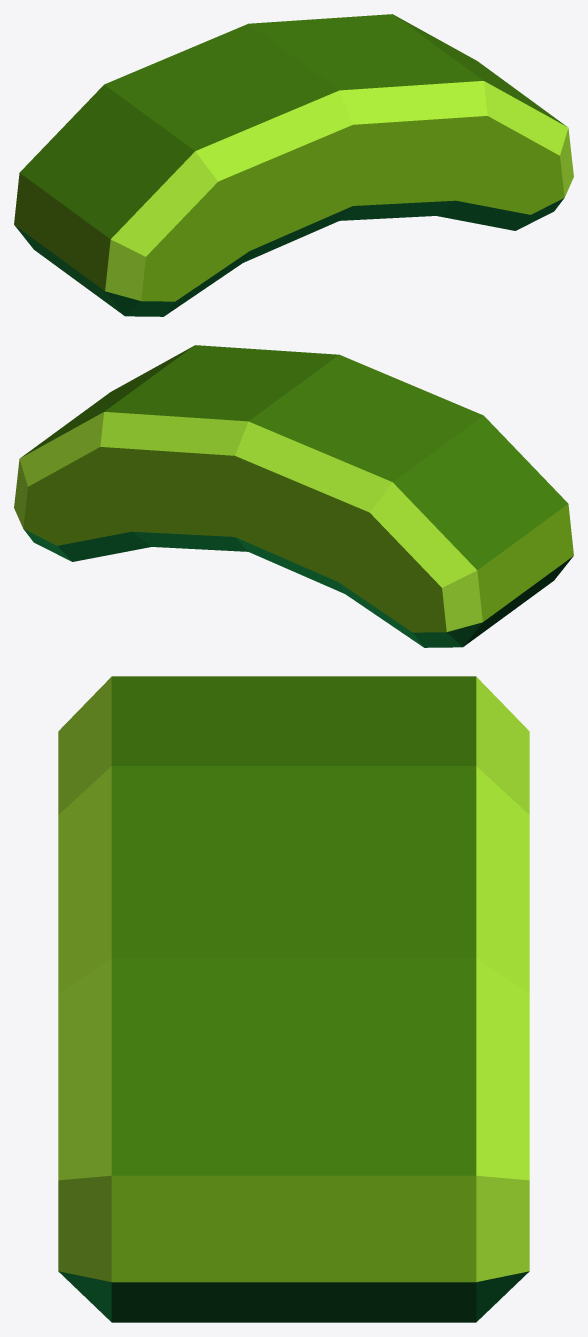
File: 3d_HealthPoints_002.fbx
The picture shows the model from 3 angles, top to bottom: view 1: azimuth 30°, elevation 25°; view 2: azimuth 150°, elevation 25°; view 3: azimuth 270°, elevation 25°; orthographic projection. The views are drawn at different scales.
Parts seen in each view (by area): view 1: GEO_HealthPoints.002; view 2: GEO_HealthPoints.002; view 3: GEO_HealthPoints.002.
Part boxes in pixels (x1,y1,x2,y2): GEO_HealthPoints.002: (14,14,573,316); GEO_HealthPoints.002: (14,345,573,647); GEO_HealthPoints.002: (58,676,529,1322).
Size of the model in its own units: 0.4042 by 0.176 by 0.1512.
